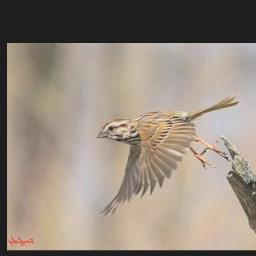Sparrow: (97, 87, 244, 218)
